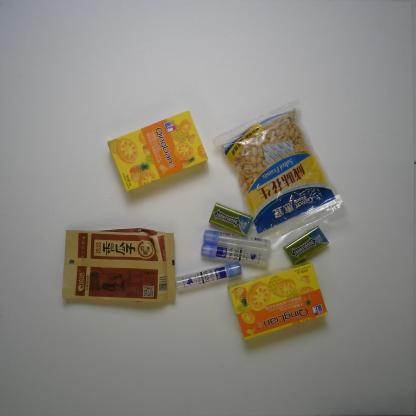Dessert: (103, 111, 212, 198), (223, 263, 331, 343)
Dried Food: (58, 220, 181, 309)
Dried Fruit: (213, 94, 353, 240)
Gum: (282, 224, 332, 264), (208, 202, 256, 239)
Stationery: (172, 259, 247, 291), (199, 240, 269, 268), (200, 226, 274, 248)
